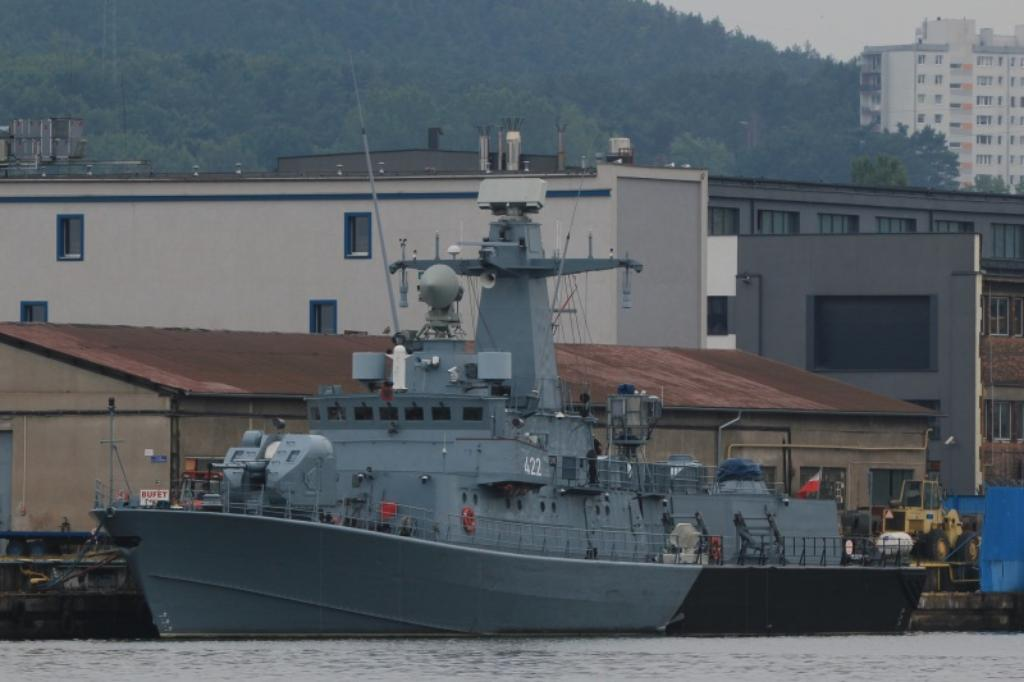Warship: (90, 161, 936, 641)
